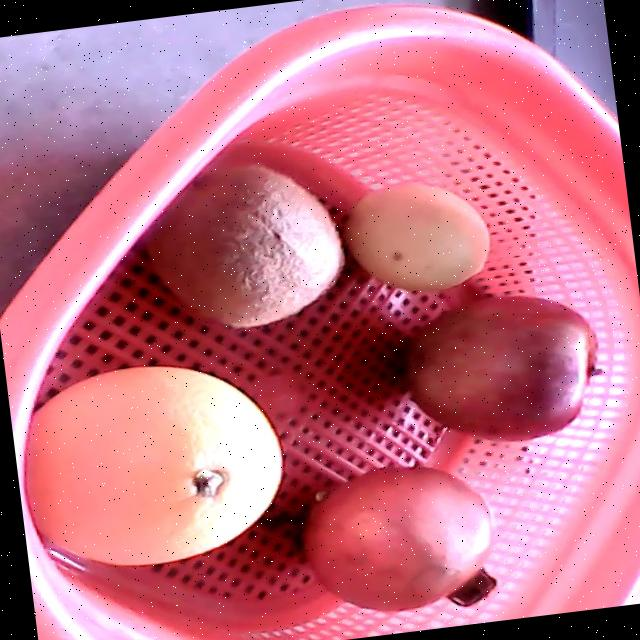apple: (403, 295, 600, 442)
kiwi: (147, 165, 342, 326)
lemon: (344, 182, 487, 293)
orange: (23, 366, 280, 566)
pomegranate: (300, 466, 497, 611)
